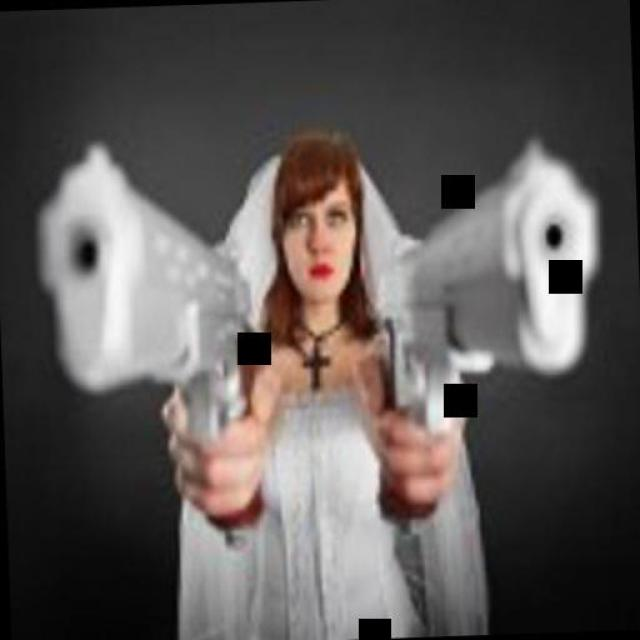gun: (354, 127, 615, 518), (26, 130, 269, 540)
